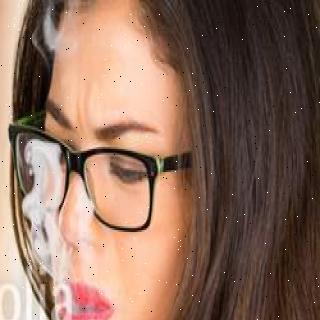smoke: (16, 144, 92, 316)
